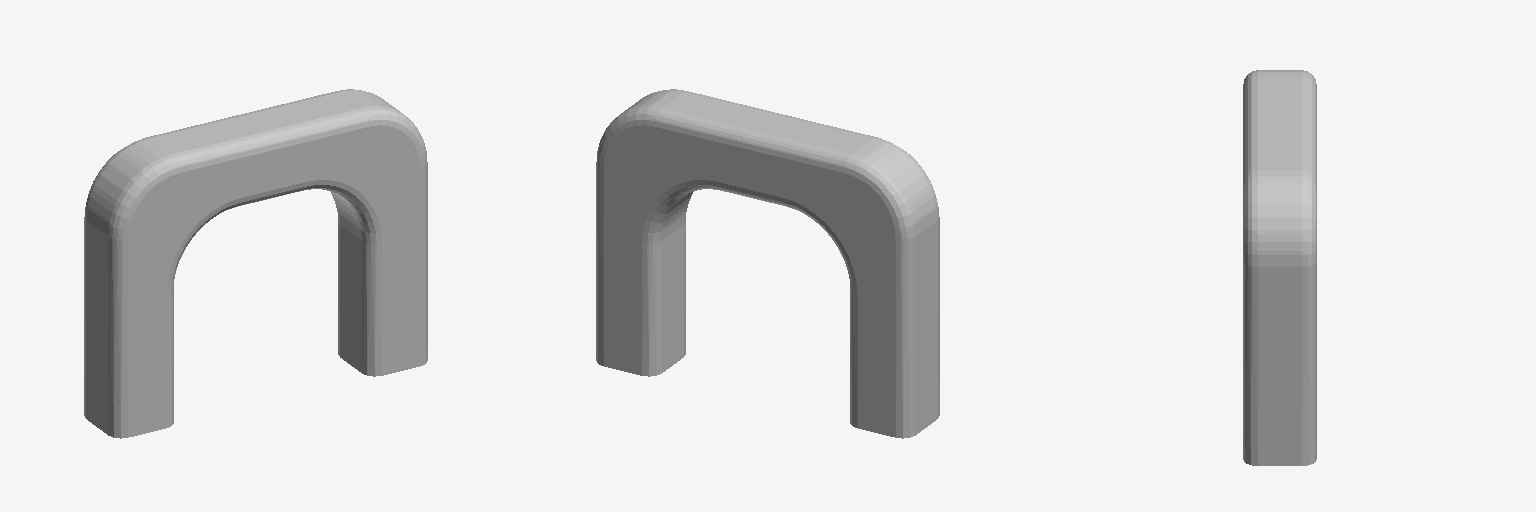
The model's file is handle_link.obj.
3 renders of one model, left to right at view 1: azimuth 30°, elevation 25°; view 2: azimuth 150°, elevation 25°; view 3: azimuth 270°, elevation 25°, orthographic.
Parts seen in each view (by area): view 1: handle_link_handle_link.001; view 2: handle_link_handle_link.001; view 3: handle_link_handle_link.001.
Boxes of the visible parts, box(x1,y1,x2,y2) form: handle_link_handle_link.001: box(84, 89, 427, 438); handle_link_handle_link.001: box(596, 89, 939, 438); handle_link_handle_link.001: box(1243, 70, 1316, 465).
Bounding box in the file's own units: 0.125 × 0.1 × 0.025.